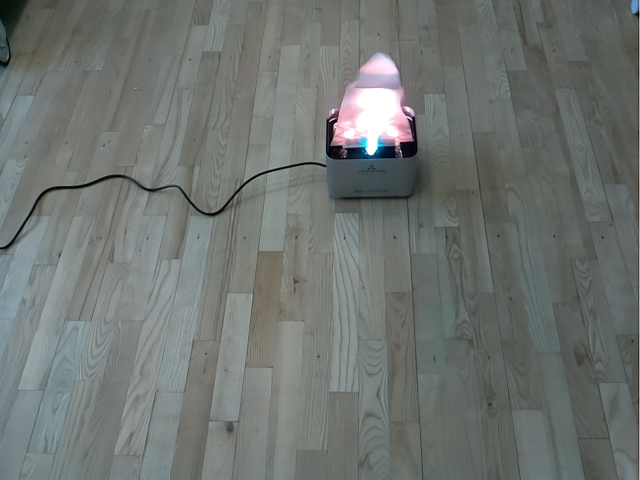fire: (329, 51, 414, 147)
